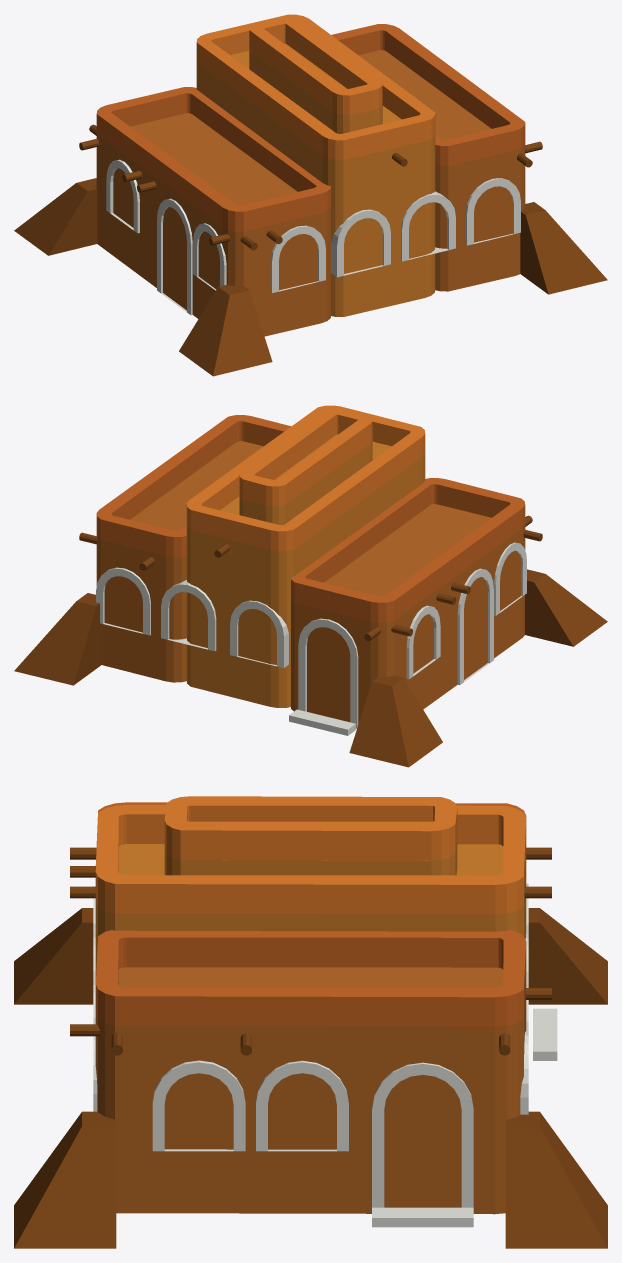
Rendered from openscad_miniature-brick-lumber-house_L5_Q1__haiku55.glb.
3 renders of one model, top to bottom at view 1: azimuth 30°, elevation 25°; view 2: azimuth 150°, elevation 25°; view 3: azimuth 270°, elevation 25°, orthographic. The views are drawn at different scales.
Visible parts, largest first — view 1: object; view 2: object; view 3: object.
Boxes of the visible parts, left/top/right/bottom form: object: left=14, top=14, right=607, bottom=376; object: left=14, top=405, right=607, bottom=767; object: left=14, top=796, right=607, bottom=1248.
Size of the model in its own units: 790 by 378 by 690.
